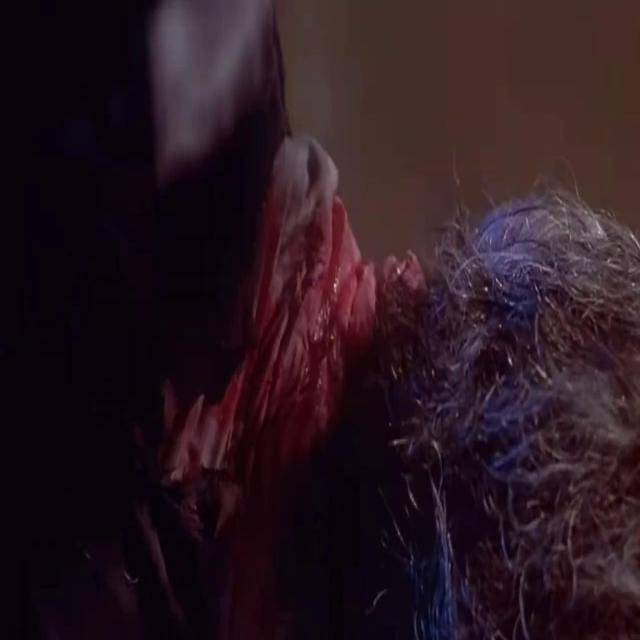flood: (198, 176, 390, 458)
